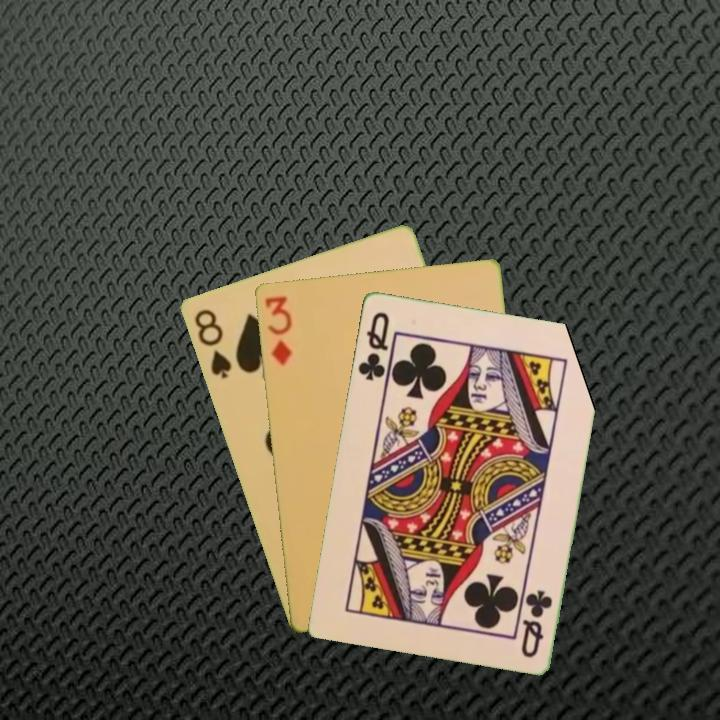3d: (261, 292, 295, 368)
8s: (190, 305, 234, 382)
Qc: (354, 308, 392, 383), (517, 585, 555, 660)
